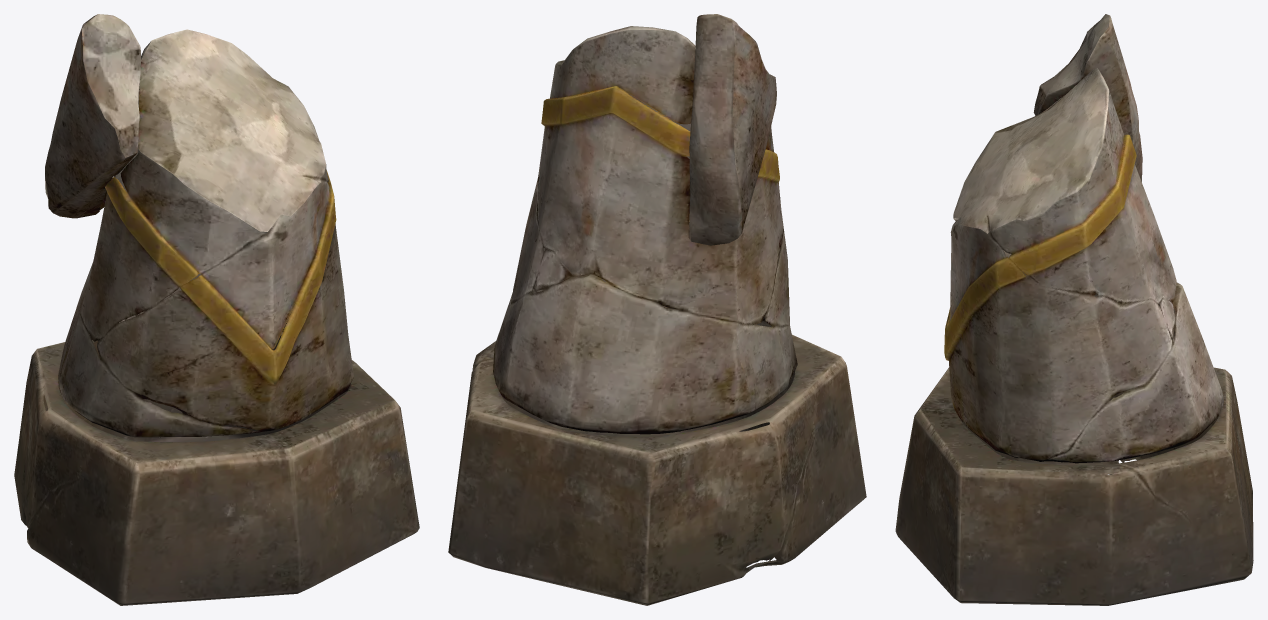
3 renders of one model, left to right at view 1: azimuth 30°, elevation 25°; view 2: azimuth 150°, elevation 25°; view 3: azimuth 270°, elevation 25°, orthographic. The views are drawn at different scales.
Parts seen in each view (by area): view 1: SM_Dragonkin_Statue_02v3_LOD0; view 2: SM_Dragonkin_Statue_02v3_LOD0; view 3: SM_Dragonkin_Statue_02v3_LOD0.
Part boxes in pixels (bbox=[...]): SM_Dragonkin_Statue_02v3_LOD0: bbox=[14, 14, 419, 605]; SM_Dragonkin_Statue_02v3_LOD0: bbox=[448, 14, 866, 605]; SM_Dragonkin_Statue_02v3_LOD0: bbox=[895, 14, 1253, 605].
Bounding box in the file's own units: 1.84 × 2.86 × 1.93.
Materials: 1 (1 with a texture image).
